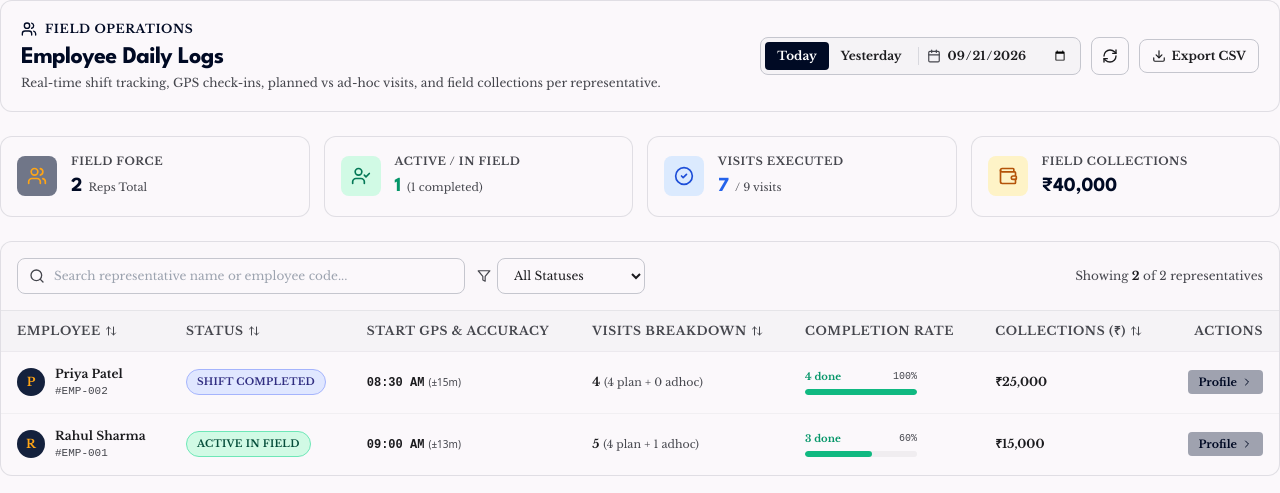
Test: EmployeeDailyLogsPage › filters table rows by representative search query
Expected: the text "Rahul Sharma" is shown, [55,428,146,444]
Type "Priya" into the field with placeholder "Search representative name or employee code...".
click(241, 276); type("Priya")  # box [17,258,465,294]
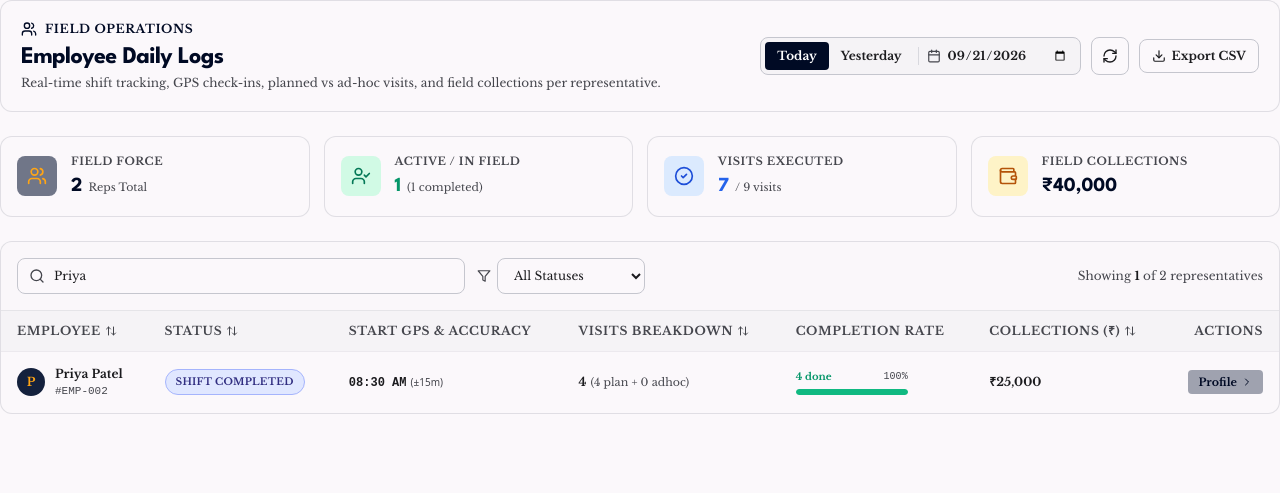
Expected: the text "Priya Patel" is shown, [55,366,123,382]
Expected: the text "Rahul Sharma" is gone
